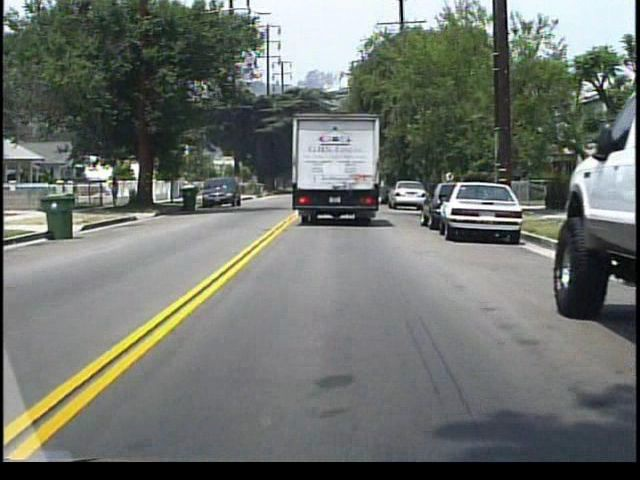person: (110, 177, 123, 209)
